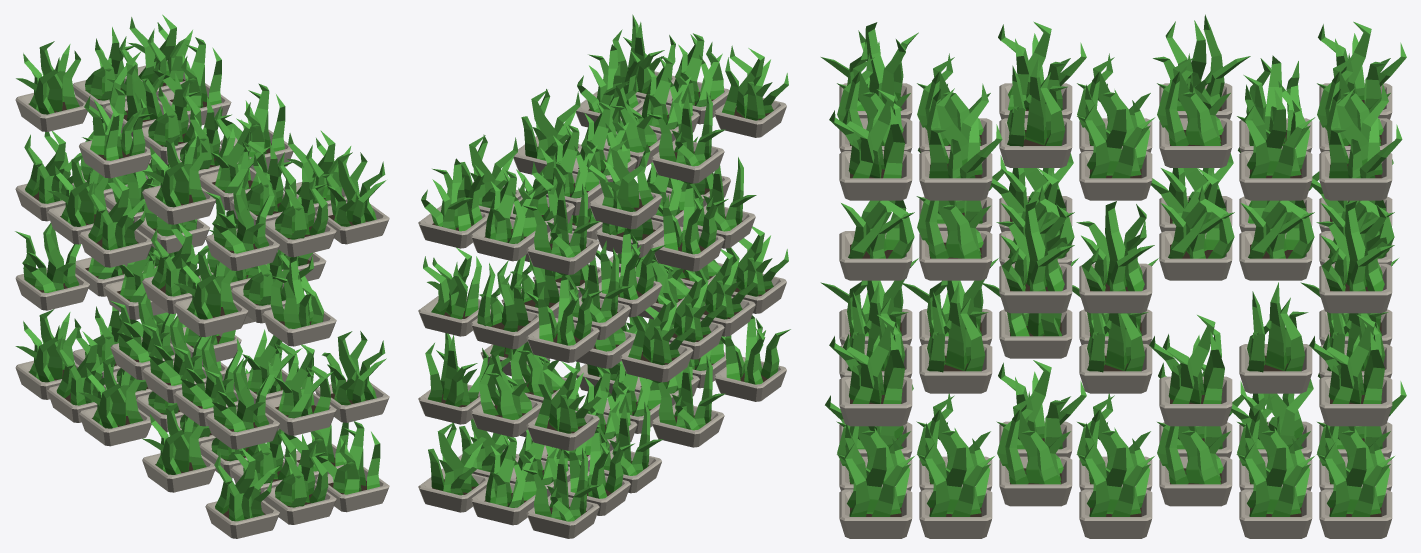
Rendered from worlds_SM_Prop_Hydroponic_Planter_02_Insert_01.gltf.
3 views of the same model, side by side, from view 1: azimuth 30°, elevation 25°; view 2: azimuth 150°, elevation 25°; view 3: azimuth 270°, elevation 25° (orthographic). The views are drawn at different scales.
Visible parts, largest first — view 1: SM_Prop_Hydroponic_Planter_02_Insert_01; view 2: SM_Prop_Hydroponic_Planter_02_Insert_01; view 3: SM_Prop_Hydroponic_Planter_02_Insert_01.
Part boxes in pixels (left/top/right/bottom): SM_Prop_Hydroponic_Planter_02_Insert_01: left=15, top=14, right=389, bottom=538; SM_Prop_Hydroponic_Planter_02_Insert_01: left=418, top=14, right=790, bottom=538; SM_Prop_Hydroponic_Planter_02_Insert_01: left=820, top=14, right=1406, bottom=538.
Size of the model in its own units: 0.8956 by 1.65 by 2.
Materials: 1 (1 with a texture image).
